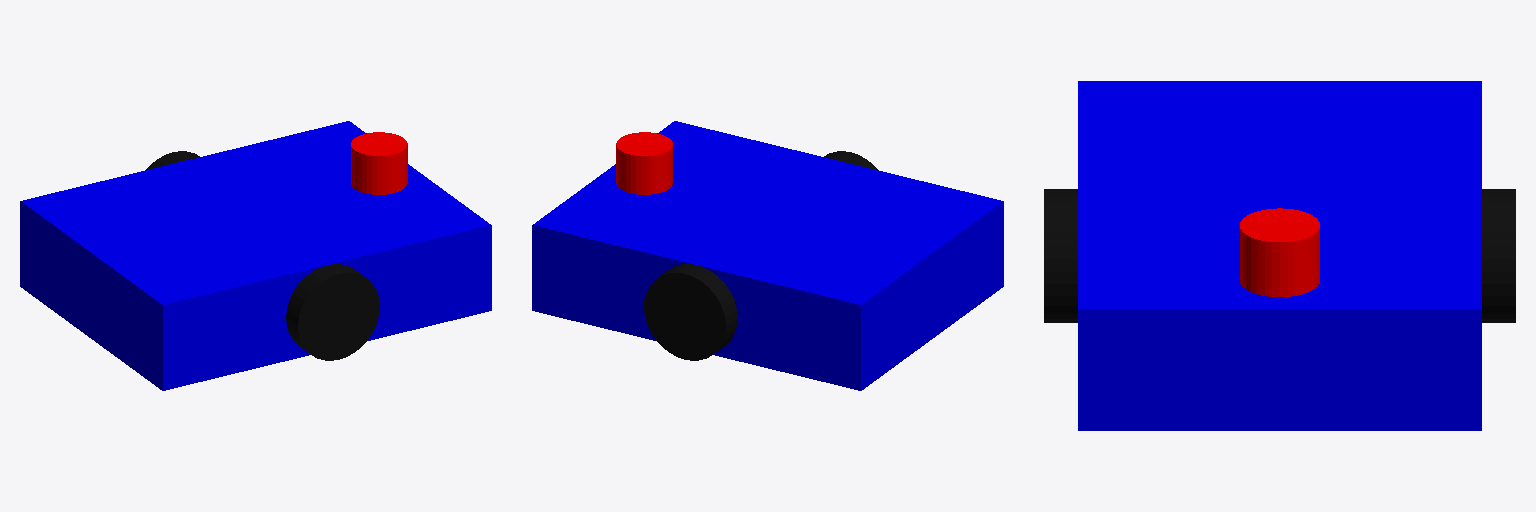
robot.urdf — sensor_robot:
<?xml version="1.0"?>
<robot name="sensor_robot">

  <!-- ========== 材质 ========== -->
  <material name="blue">
    <color rgba="0 0 1 1"/>
  </material>

  <material name="black">
    <color rgba="0.1 0.1 0.1 1"/>
  </material>

  <material name="red">
    <color rgba="1 0 0 1"/>
  </material>

  <!-- ========== 虚拟根链接，避免根链接带惯量时的KDL警告 ========== -->
  <link name="base_footprint"/>

  <!-- ========== 底盘 ========== -->
  <link name="base_link">
    <visual>
      <origin xyz="0 0 0.05" rpy="0 0 0"/>
      <geometry>
        <box size="0.4 0.3 0.1"/>
      </geometry>
      <material name="blue"/>
    </visual>

    <collision>
      <origin xyz="0 0 0.05" rpy="0 0 0"/>
      <geometry>
        <box size="0.4 0.3 0.1"/>
      </geometry>
    </collision>

    <inertial>
      <origin xyz="0 0 0.05" rpy="0 0 0"/>
      <mass value="5.0"/>
      <inertia
        ixx="0.1" ixy="0.0" ixz="0.0"
        iyy="0.1" iyz="0.0"
        izz="0.1"/>
    </inertial>
  </link>

  <joint name="base_footprint_joint" type="fixed">
    <parent link="base_footprint"/>
    <child link="base_link"/>
    <origin xyz="0 0 0" rpy="0 0 0"/>
  </joint>

  <!-- ========== 左轮 ========== -->
  <link name="left_wheel">
    <visual>
      <origin xyz="0 0 0" rpy="1.5708 0 0"/>
      <geometry>
        <cylinder radius="0.05" length="0.03"/>
      </geometry>
      <material name="black"/>
    </visual>

    <collision>
      <origin xyz="0 0 0" rpy="1.5708 0 0"/>
      <geometry>
        <cylinder radius="0.05" length="0.03"/>
      </geometry>
    </collision>

    <inertial>
      <origin xyz="0 0 0" rpy="0 0 0"/>
      <mass value="0.5"/>
      <inertia
        ixx="0.001" ixy="0.0" ixz="0.0"
        iyy="0.001" iyz="0.0"
        izz="0.001"/>
    </inertial>
  </link>

  <joint name="left_wheel_joint" type="continuous">
    <parent link="base_link"/>
    <child link="left_wheel"/>
    <origin xyz="0 0.16 0.05" rpy="0 0 0"/>
    <axis xyz="0 1 0"/>
  </joint>

  <!-- ========== 右轮 ========== -->
  <link name="right_wheel">
    <visual>
      <origin xyz="0 0 0" rpy="1.5708 0 0"/>
      <geometry>
        <cylinder radius="0.05" length="0.03"/>
      </geometry>
      <material name="black"/>
    </visual>

    <collision>
      <origin xyz="0 0 0" rpy="1.5708 0 0"/>
      <geometry>
        <cylinder radius="0.05" length="0.03"/>
      </geometry>
    </collision>

    <inertial>
      <origin xyz="0 0 0" rpy="0 0 0"/>
      <mass value="0.5"/>
      <inertia
        ixx="0.001" ixy="0.0" ixz="0.0"
        iyy="0.001" iyz="0.0"
        izz="0.001"/>
    </inertial>
  </link>

  <joint name="right_wheel_joint" type="continuous">
    <parent link="base_link"/>
    <child link="right_wheel"/>
    <origin xyz="0 -0.16 0.05" rpy="0 0 0"/>
    <axis xyz="0 1 0"/>
  </joint>

  <!-- ========== 激光雷达 ========== -->
  <link name="laser_link">
    <visual>
      <origin xyz="0 0 0" rpy="0 0 0"/>
      <geometry>
        <cylinder radius="0.03" length="0.05"/>
      </geometry>
      <material name="red"/>
    </visual>

    <collision>
      <origin xyz="0 0 0" rpy="0 0 0"/>
      <geometry>
        <cylinder radius="0.03" length="0.05"/>
      </geometry>
    </collision>

    <inertial>
      <origin xyz="0 0 0" rpy="0 0 0"/>
      <mass value="0.2"/>
      <inertia
        ixx="0.0001" ixy="0.0" ixz="0.0"
        iyy="0.0001" iyz="0.0"
        izz="0.0001"/>
    </inertial>
  </link>

  <joint name="laser_joint" type="fixed">
    <parent link="base_link"/>
    <child link="laser_link"/>
    <origin xyz="0.15 0 0.12" rpy="0 0 0"/>
  </joint>

  <!-- ========== Gazebo中底盘外观 ========== -->
  <gazebo reference="base_link">
    <material>Gazebo/Blue</material>
  </gazebo>

  <gazebo reference="left_wheel">
    <material>Gazebo/Black</material>
    <mu1>5.0</mu1>
    <mu2>5.0</mu2>
  </gazebo>

  <gazebo reference="right_wheel">
    <material>Gazebo/Black</material>
    <mu1>5.0</mu1>
    <mu2>5.0</mu2>
  </gazebo>

  <gazebo reference="laser_link">
    <material>Gazebo/Red</material>
  </gazebo>

  <!-- ========== 差速驱动插件 ========== -->
  <gazebo>
    <plugin name="diff_drive_controller" filename="libgazebo_ros_diff_drive.so">
      <ros>
        <namespace>/</namespace>
      </ros>
      <rosDebugLevel>na</rosDebugLevel>

      <leftJoint>left_wheel_joint</leftJoint>
      <rightJoint>right_wheel_joint</rightJoint>

      <wheelSeparation>0.32</wheelSeparation>
      <wheelDiameter>0.10</wheelDiameter>
      <wheelAcceleration>1.0</wheelAcceleration>
      <wheelTorque>10.0</wheelTorque>

      <commandTopic>cmd_vel</commandTopic>
      <odometryTopic>odom</odometryTopic>
      <odometryFrame>odom</odometryFrame>
      <robotBaseFrame>base_footprint</robotBaseFrame>
      <odometrySource>world</odometrySource>

      <publishTf>true</publishTf>
      <publishOdomTF>true</publishOdomTF>
      <publishWheelTF>true</publishWheelTF>
      <publishOdom>true</publishOdom>
      <publishWheelJointState>true</publishWheelJointState>

      <updateRate>30</updateRate>
    </plugin>
  </gazebo>

  <!-- ========== 激光传感器插件 ========== -->
  <gazebo reference="laser_link">
    <sensor type="ray" name="laser_sensor">
      <pose>0 0 0 0 0 0</pose>
      <visualize>true</visualize>
      <update_rate>10</update_rate>

      <ray>
        <scan>
          <horizontal>
            <samples>360</samples>
            <resolution>1</resolution>
            <min_angle>-1.5708</min_angle>
            <max_angle>1.5708</max_angle>
          </horizontal>
        </scan>

        <range>
          <min>0.12</min>
          <max>5.0</max>
          <resolution>0.01</resolution>
        </range>

        <noise>
          <type>gaussian</type>
          <mean>0.0</mean>
          <stddev>0.01</stddev>
        </noise>
      </ray>

      <plugin name="gazebo_ros_laser_controller" filename="libgazebo_ros_laser.so">
        <topicName>/scan</topicName>
        <frameName>laser_link</frameName>
      </plugin>
    </sensor>
  </gazebo>

</robot>

--- Facts derived from the render (not from the file) ---
The picture shows the robot from 3 angles, left to right: view 1: azimuth 30°, elevation 25°; view 2: azimuth 150°, elevation 25°; view 3: azimuth 270°, elevation 25°; orthographic projection.
Model sensor_robot with 5 links and 4 joints (2 continuous, 2 fixed), rooted at base_footprint, posed every joint at zero.
Links seen in each view (by area): view 1: base_link, right_wheel, laser_link; view 2: base_link, left_wheel, laser_link; view 3: base_link, laser_link, left_wheel, right_wheel.
Link boxes in pixels (x1,y1,x2,y2): base_link: (20, 121, 491, 390); right_wheel: (286, 264, 379, 360); laser_link: (351, 132, 407, 194); base_link: (532, 121, 1003, 390); left_wheel: (644, 264, 737, 360); laser_link: (616, 132, 672, 194); base_link: (1078, 81, 1481, 430); laser_link: (1240, 208, 1319, 296); left_wheel: (1482, 189, 1515, 322); right_wheel: (1044, 189, 1077, 322).
Bounding box of the posed robot: 0.4 × 0.35 × 0.145 m (x, y, z).
Geometry: primitives only (box / cylinder / sphere), no mesh files.
